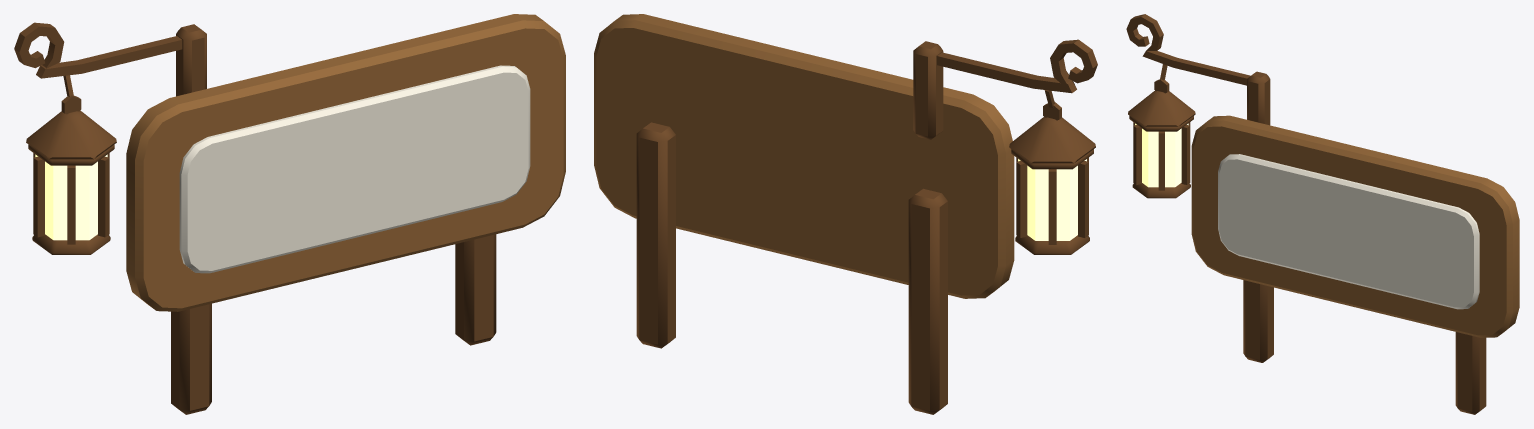
The model's file is ui_signpost.glb.
3 renders of one model, left to right at view 1: azimuth 30°, elevation 25°; view 2: azimuth 150°, elevation 25°; view 3: azimuth 330°, elevation 25°, orthographic. The views are drawn at different scales.
Visible parts, largest first — view 1: ui_signpost; view 2: ui_signpost; view 3: ui_signpost.
Part boxes in pixels (x1,y1,x2,y2): ui_signpost: [14, 14, 565, 414]; ui_signpost: [594, 14, 1097, 414]; ui_signpost: [1126, 14, 1519, 414].
Size of the model in its own units: 2.47 by 1.87 by 0.3654.
1 material, 1 textured.
